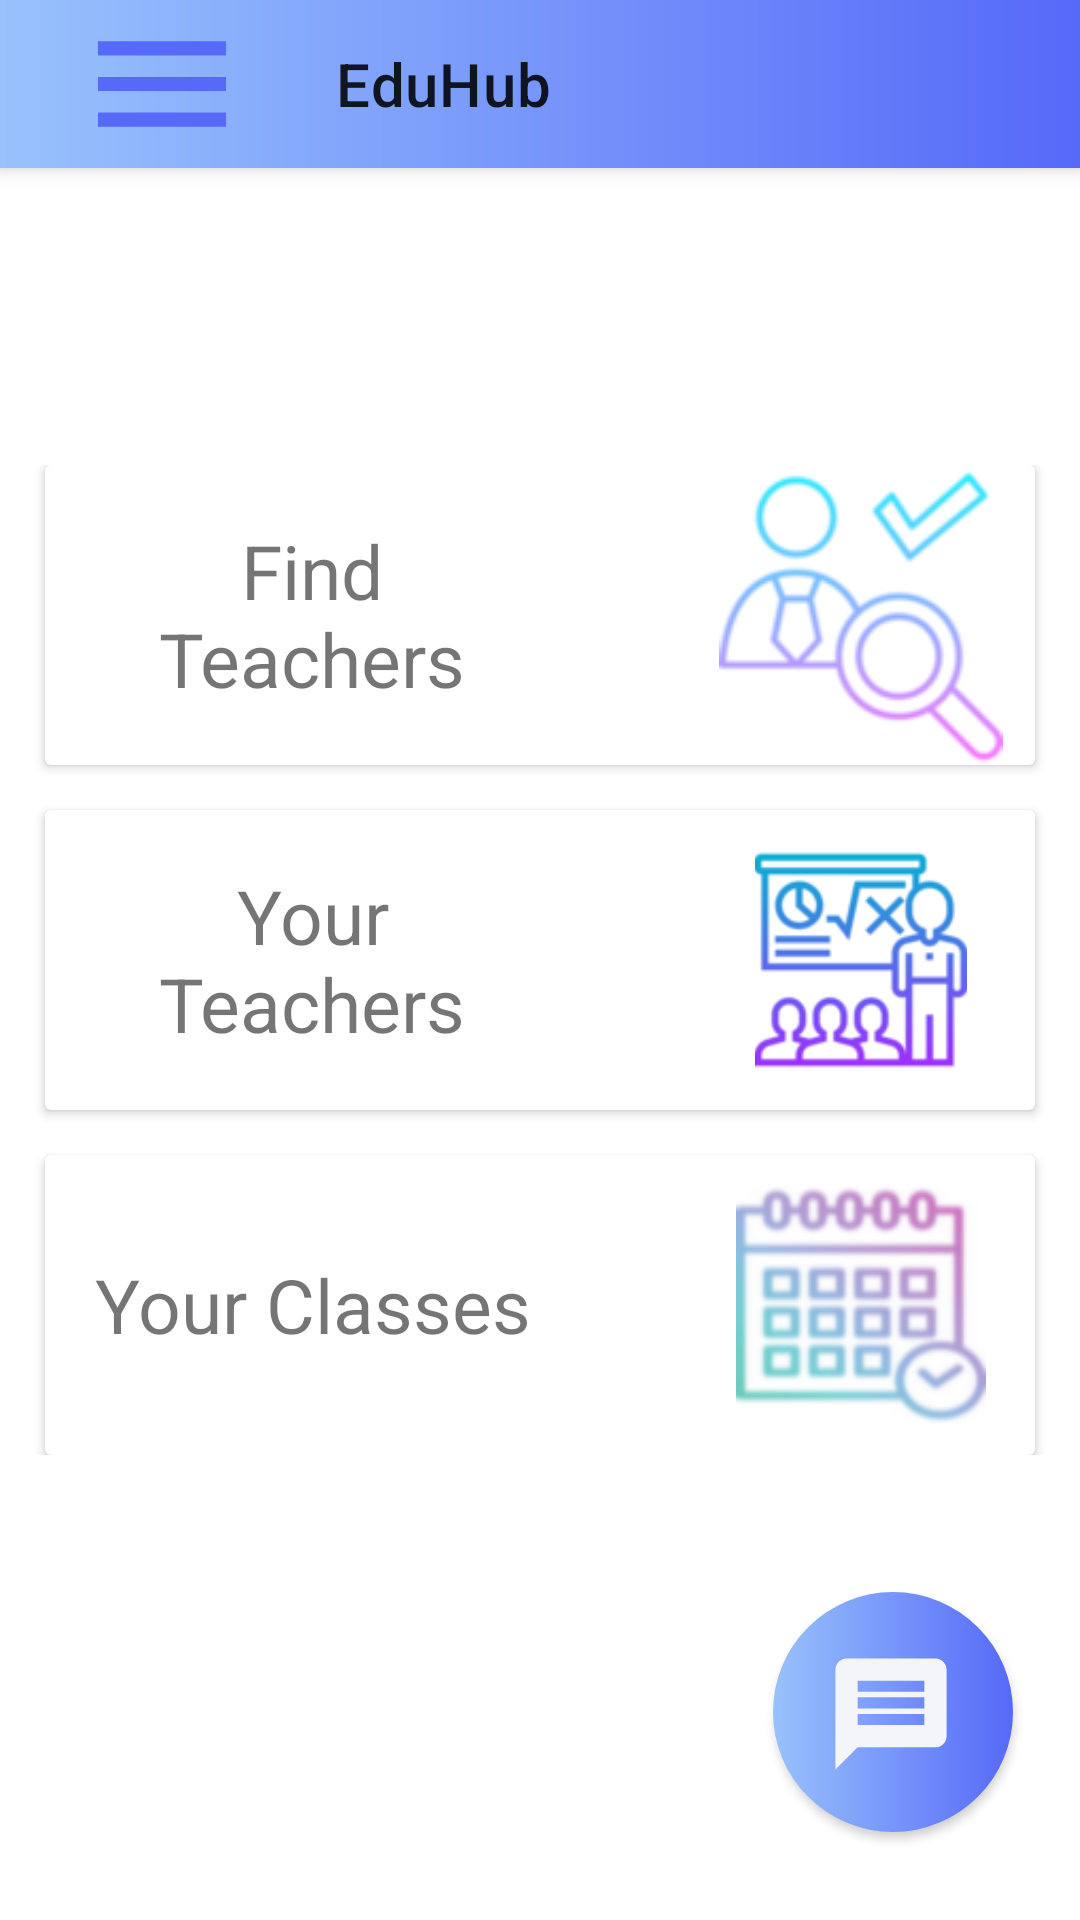

Named icons in this screenshot (1080px×1920px) and their centers, [x,y]:
find teacher: [861,616]
schedule: [861,1305]
your teacher: [861,960]
